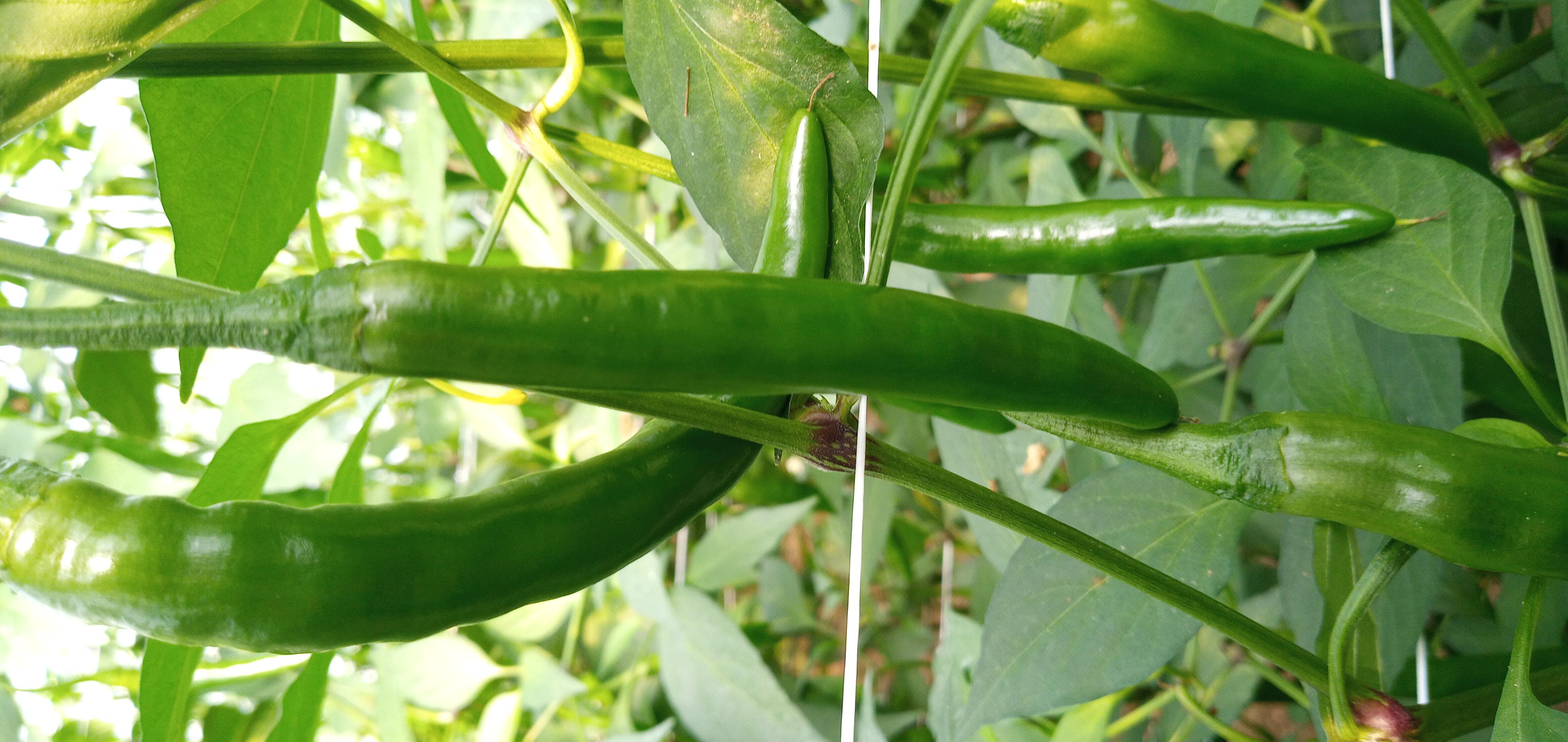Buah Cabai Sehat: (0, 90, 838, 661), (267, 248, 1174, 434), (1010, 0, 1473, 167), (856, 188, 1383, 279)
